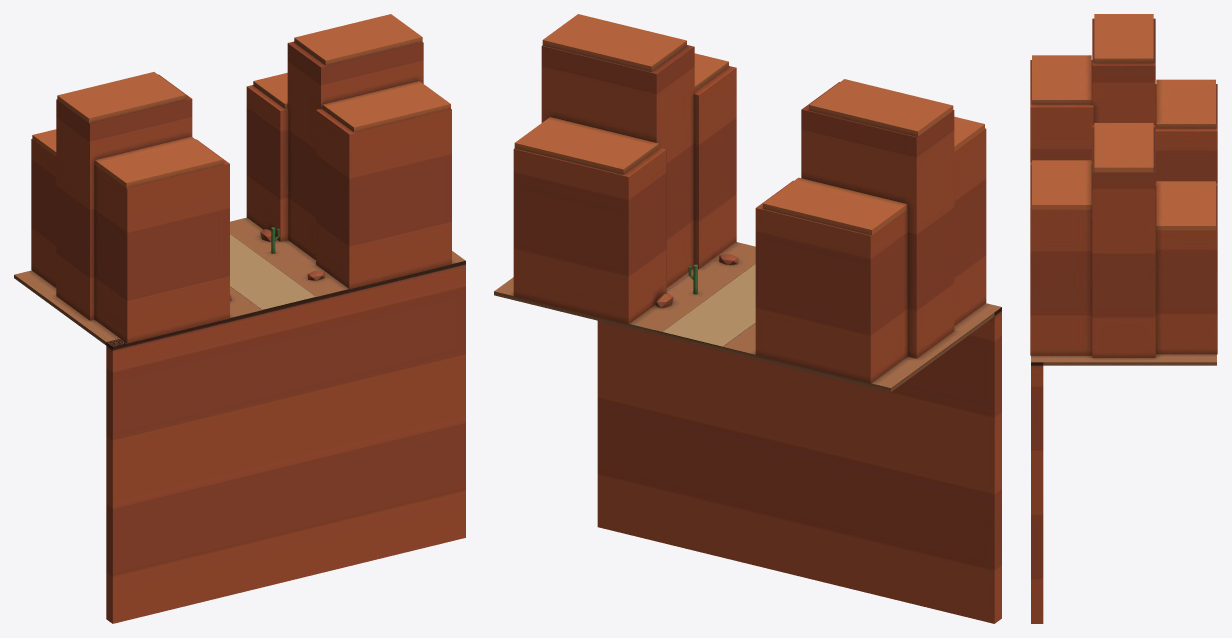
The model's file is canon_corte.glb.
3 views of the same model, side by side, from view 1: azimuth 30°, elevation 25°; view 2: azimuth 150°, elevation 25°; view 3: azimuth 270°, elevation 25° (orthographic). The views are drawn at different scales.
Visible parts, largest first — view 1: canon_corte; view 2: canon_corte; view 3: canon_corte.
Boxes of the visible parts, x1,y1,x2,y2 form: canon_corte: (14,14,465,623); canon_corte: (494,14,1001,623); canon_corte: (1030,14,1217,623).
Size of the model in its own units: 62 by 80.3 by 30.2.
1 material, 1 textured.
